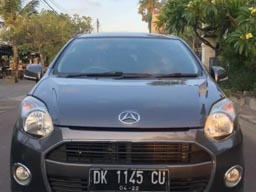plat: (90, 170, 168, 184)
